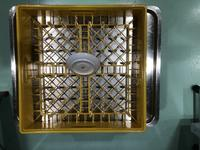Inclined_dish: (65, 53, 101, 76)
